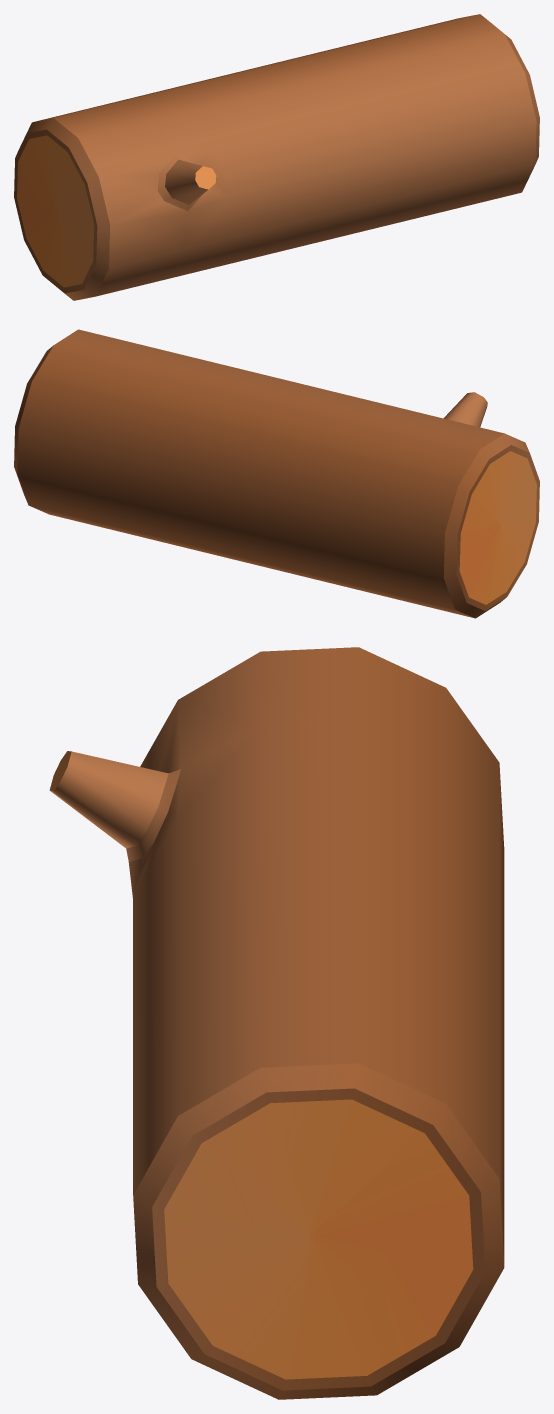
Rendered from Firewood_02.fbx.
3 renders of one model, top to bottom at view 1: azimuth 30°, elevation 25°; view 2: azimuth 150°, elevation 25°; view 3: azimuth 270°, elevation 25°, orthographic. The views are drawn at different scales.
Visible parts, largest first — view 1: Firewood_02; view 2: Firewood_02; view 3: Firewood_02.
Boxes of the visible parts, x1,y1,x2,y2 form: Firewood_02: [14, 14, 539, 300]; Firewood_02: [14, 329, 539, 618]; Firewood_02: [49, 647, 504, 1399].
Bounding box in the file's own units: 109 × 39.57 × 48.48.
